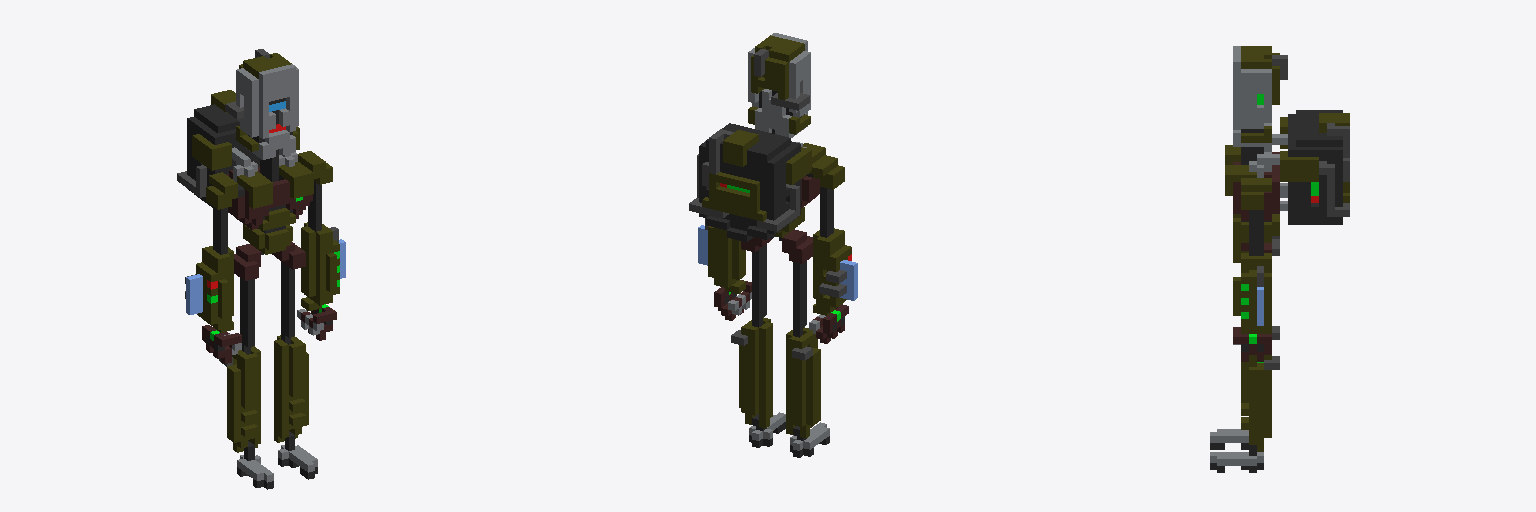
3 renders of one model, left to right at view 1: azimuth 30°, elevation 25°; view 2: azimuth 150°, elevation 25°; view 3: azimuth 270°, elevation 25°, orthographic.
Parts seen in each view (by area): view 1: object 1; view 2: object 1; view 3: object 1.
Boxes of the visible parts, x1,y1,x2,y2 form: object 1: [177, 49, 345, 489]; object 1: [689, 33, 857, 457]; object 1: [1210, 46, 1349, 472].
Bounding box in the file's own units: 2.3 × 5.7 × 1.8.
Materials: 1 (1 with a texture image).